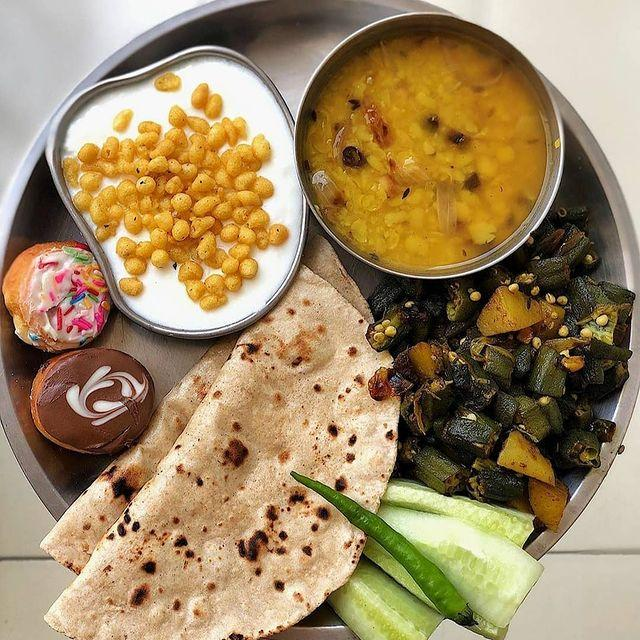Roti: (34, 282, 372, 629)
